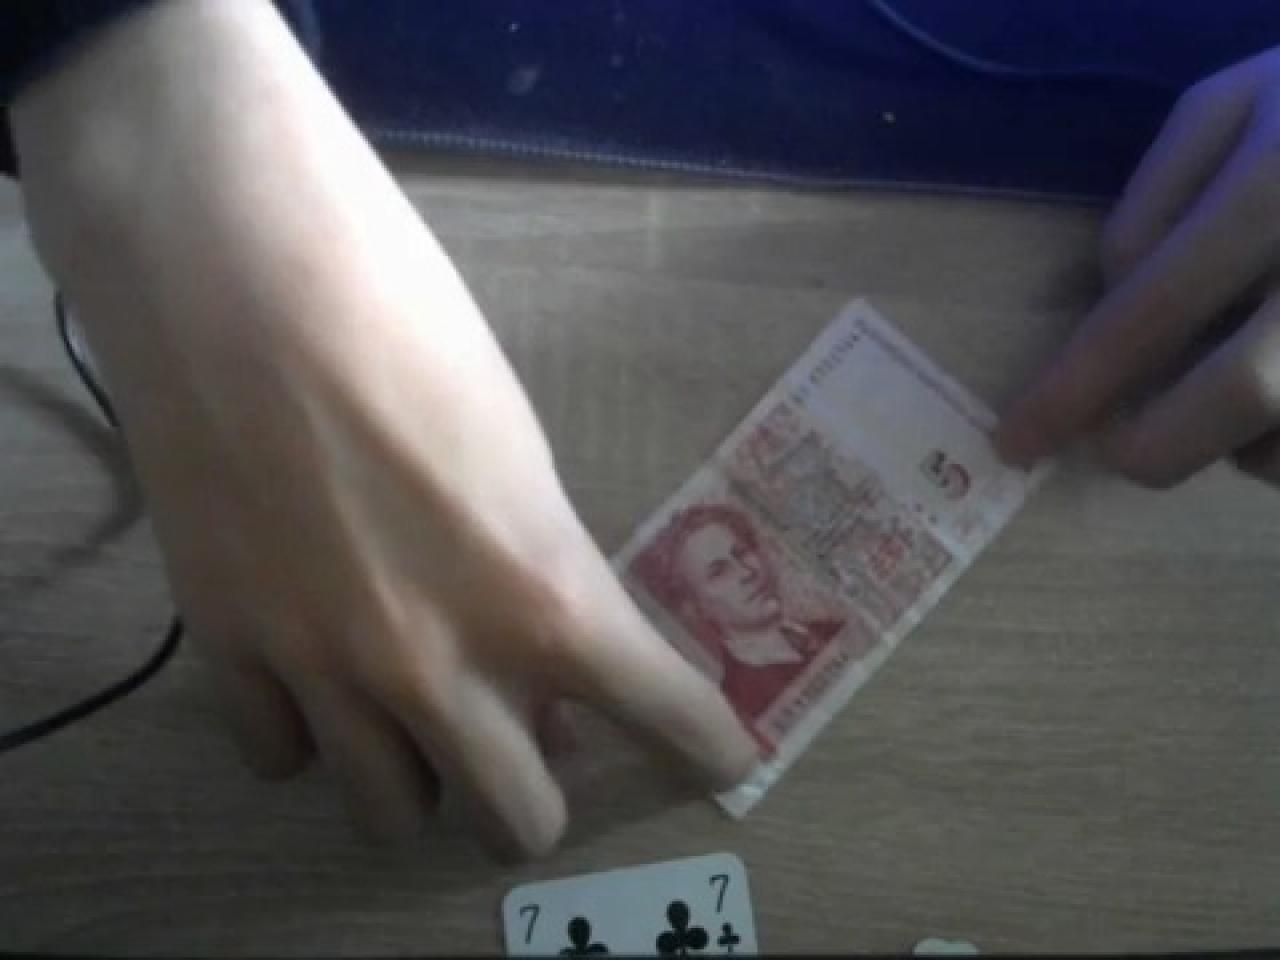5leva: (611, 302, 1058, 824)
